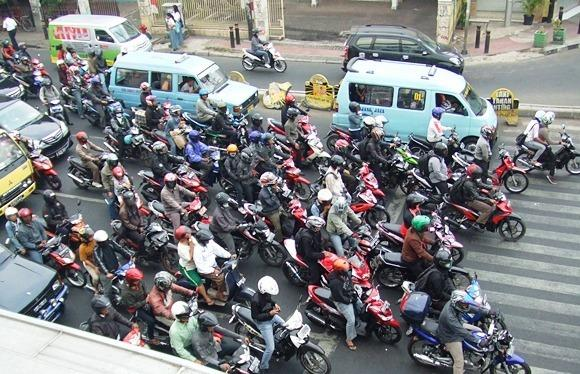helmet: (90, 294, 112, 320), (153, 270, 176, 293), (450, 289, 471, 314), (258, 276, 279, 300), (171, 301, 193, 323), (433, 250, 453, 273), (198, 311, 218, 333), (306, 215, 326, 234), (405, 193, 426, 210), (125, 268, 143, 287), (411, 215, 431, 232), (195, 229, 215, 246), (175, 225, 193, 243), (215, 192, 232, 211), (333, 259, 350, 278), (94, 230, 110, 249), (317, 188, 333, 206), (466, 164, 483, 180), (371, 127, 386, 145), (18, 207, 33, 225), (260, 171, 278, 186), (433, 142, 449, 158), (334, 139, 349, 156), (152, 141, 169, 156), (42, 189, 57, 206), (123, 191, 137, 208), (164, 173, 177, 191), (480, 125, 495, 140), (5, 206, 19, 222), (241, 148, 254, 165), (251, 113, 264, 129), (261, 133, 275, 147), (286, 108, 301, 121), (226, 144, 239, 159), (113, 166, 125, 182), (76, 131, 89, 145), (534, 110, 546, 124), (107, 153, 118, 168), (145, 95, 157, 108), (169, 105, 182, 117), (432, 107, 443, 121), (189, 130, 200, 144), (349, 101, 361, 113), (42, 77, 53, 90), (544, 111, 555, 124), (140, 82, 152, 93), (285, 95, 296, 107), (91, 77, 101, 90), (217, 101, 227, 114), (199, 88, 209, 100), (252, 27, 261, 38), (18, 42, 28, 51), (88, 49, 96, 59), (96, 49, 103, 59), (2, 39, 9, 48)
